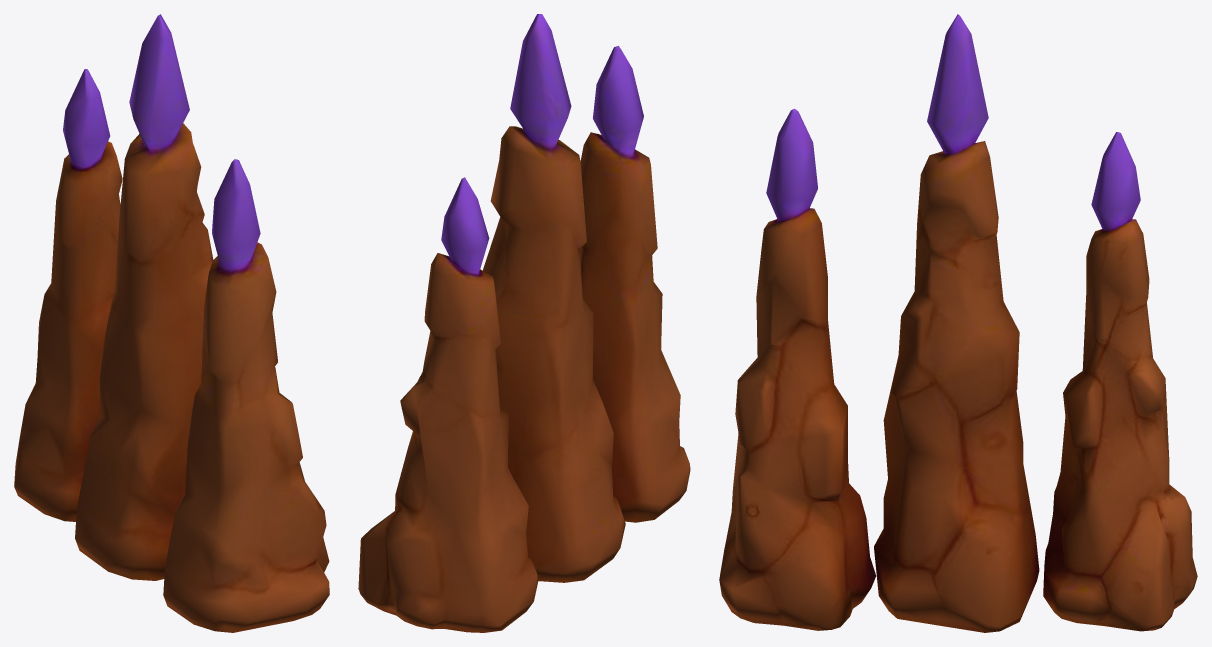
File: spires.glb
3 renders of one model, left to right at view 1: azimuth 30°, elevation 25°; view 2: azimuth 150°, elevation 25°; view 3: azimuth 270°, elevation 25°, orthographic. The views are drawn at different scales.
Visible parts, largest first — view 1: tripo_node_9a88beba-02b2-4a61-809b-1f3a354ec83c; view 2: tripo_node_9a88beba-02b2-4a61-809b-1f3a354ec83c; view 3: tripo_node_9a88beba-02b2-4a61-809b-1f3a354ec83c.
Part boxes in pixels (bbox=[...]): tripo_node_9a88beba-02b2-4a61-809b-1f3a354ec83c: bbox=[14, 14, 329, 632]; tripo_node_9a88beba-02b2-4a61-809b-1f3a354ec83c: bbox=[358, 14, 690, 632]; tripo_node_9a88beba-02b2-4a61-809b-1f3a354ec83c: bbox=[719, 14, 1197, 632].
Size of the model in its own units: 0.3223 by 0.998 by 0.7559.
1 material, 1 textured.
